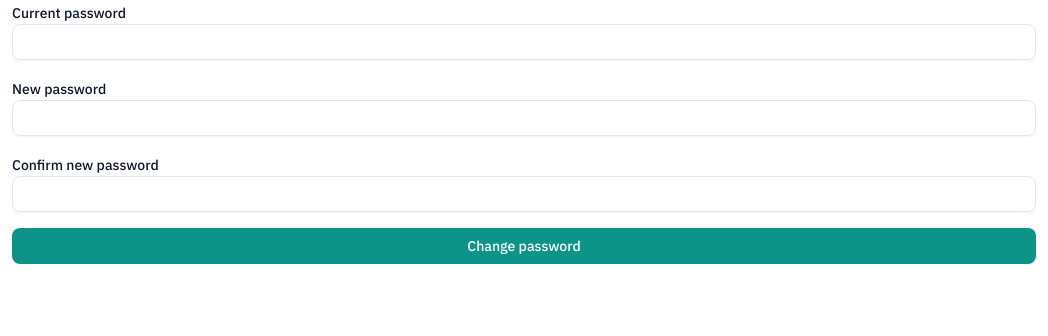
Scenario: ChangePasswordForm › rejects a short new password before touching the network
In the password field labelled "Current password": [524, 42] box [12, 24, 1036, 60], type "old-password"
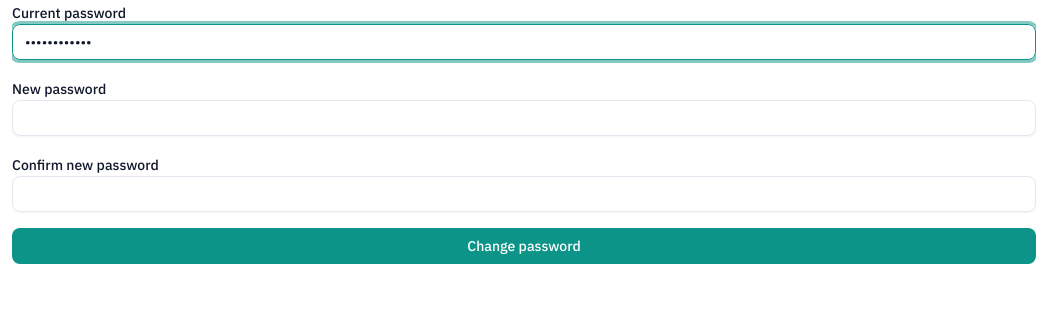
In the password field labelled "New password": [524, 118] box [12, 100, 1036, 136], type "short"
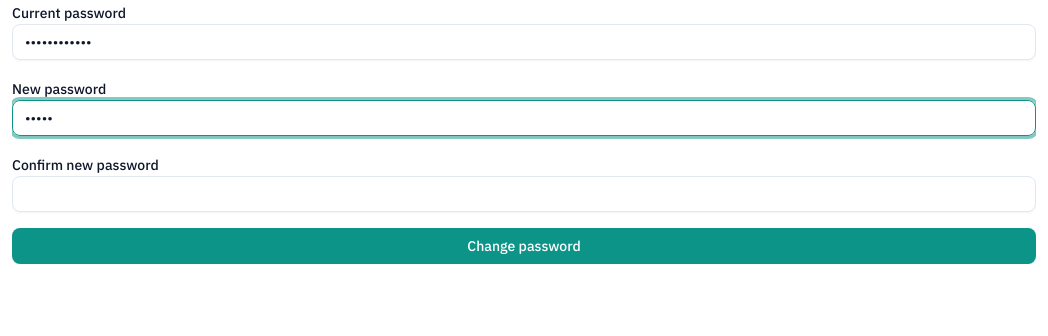
In the password field labelled "Confirm new password": [524, 194] box [12, 176, 1036, 212], type "short"
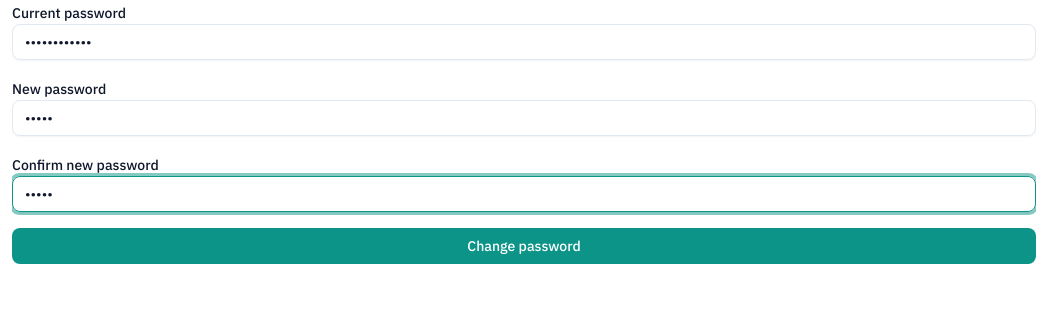
Click the button "Change password": [524, 246] box [12, 228, 1036, 264]
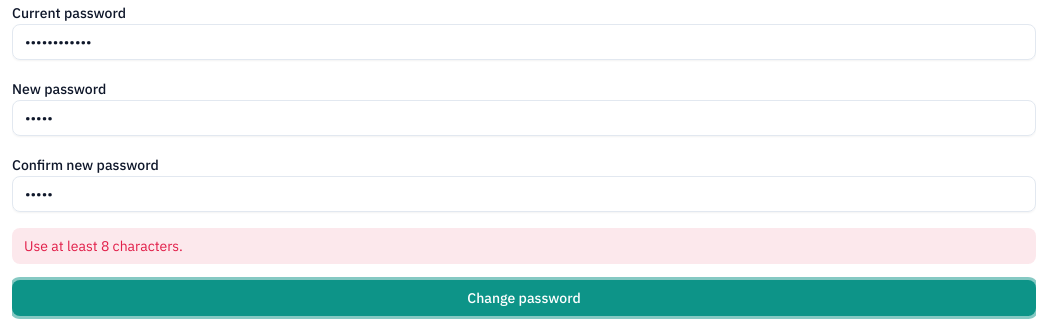
Result: the message shows "at least 8" at [24, 237, 183, 255]
